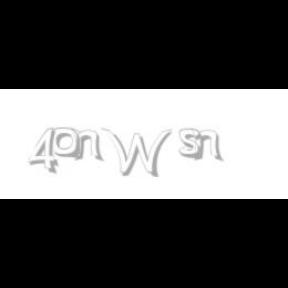4: (28, 128, 58, 174)
W: (100, 128, 172, 178)
n: (71, 128, 105, 162), (190, 128, 224, 162)
o: (50, 128, 80, 158)
s: (179, 128, 207, 160)
